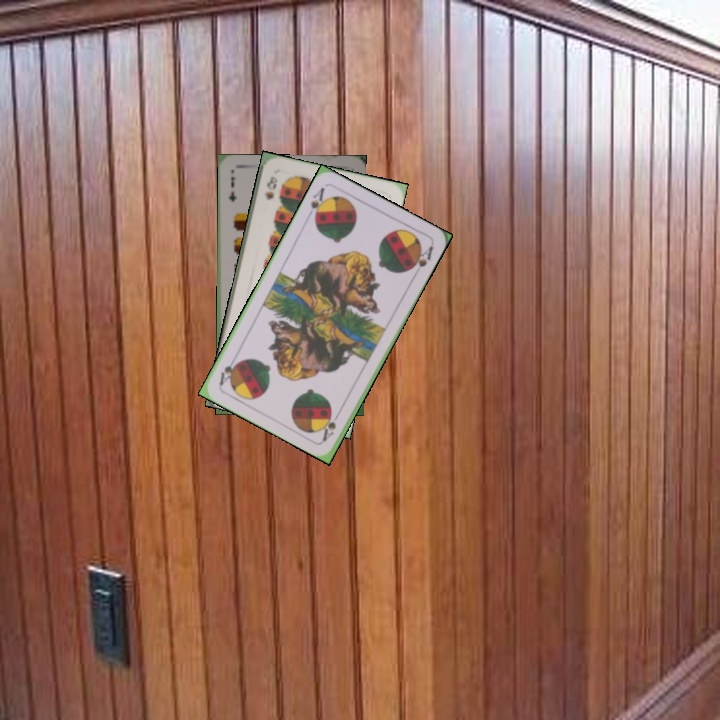E7: (224, 173, 239, 204)
S8: (261, 172, 280, 203)
SA: (303, 183, 329, 223), (319, 406, 344, 443)
